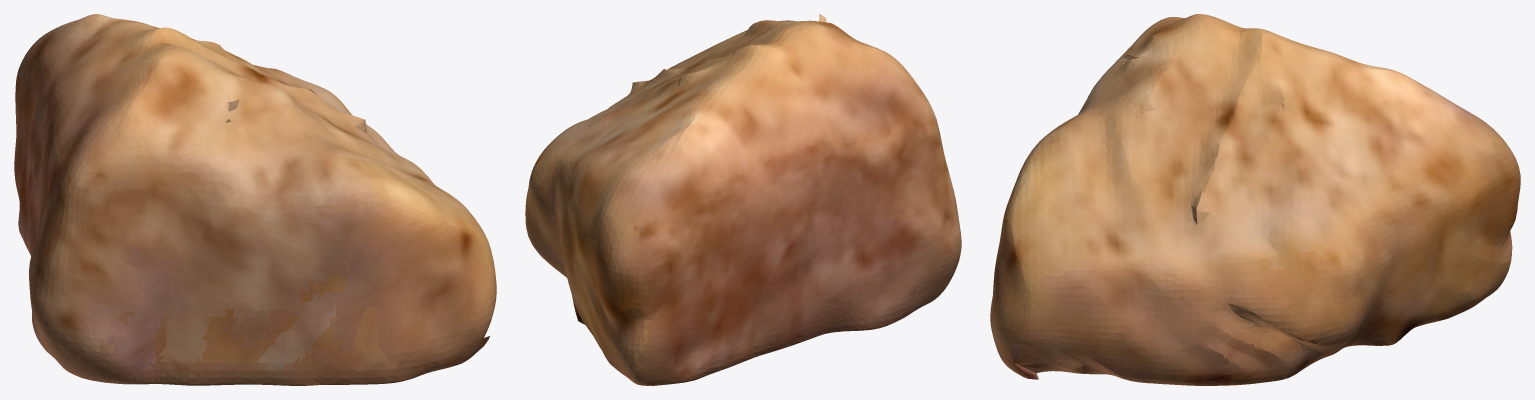
File: model_New Qlone.obj
3 renders of one model, left to right at view 1: azimuth 30°, elevation 25°; view 2: azimuth 150°, elevation 25°; view 3: azimuth 270°, elevation 25°, orthographic. The views are drawn at different scales.
Bounding box in the file's own units: 31.65 × 21.85 × 39.57.
1 material, 1 textured.
